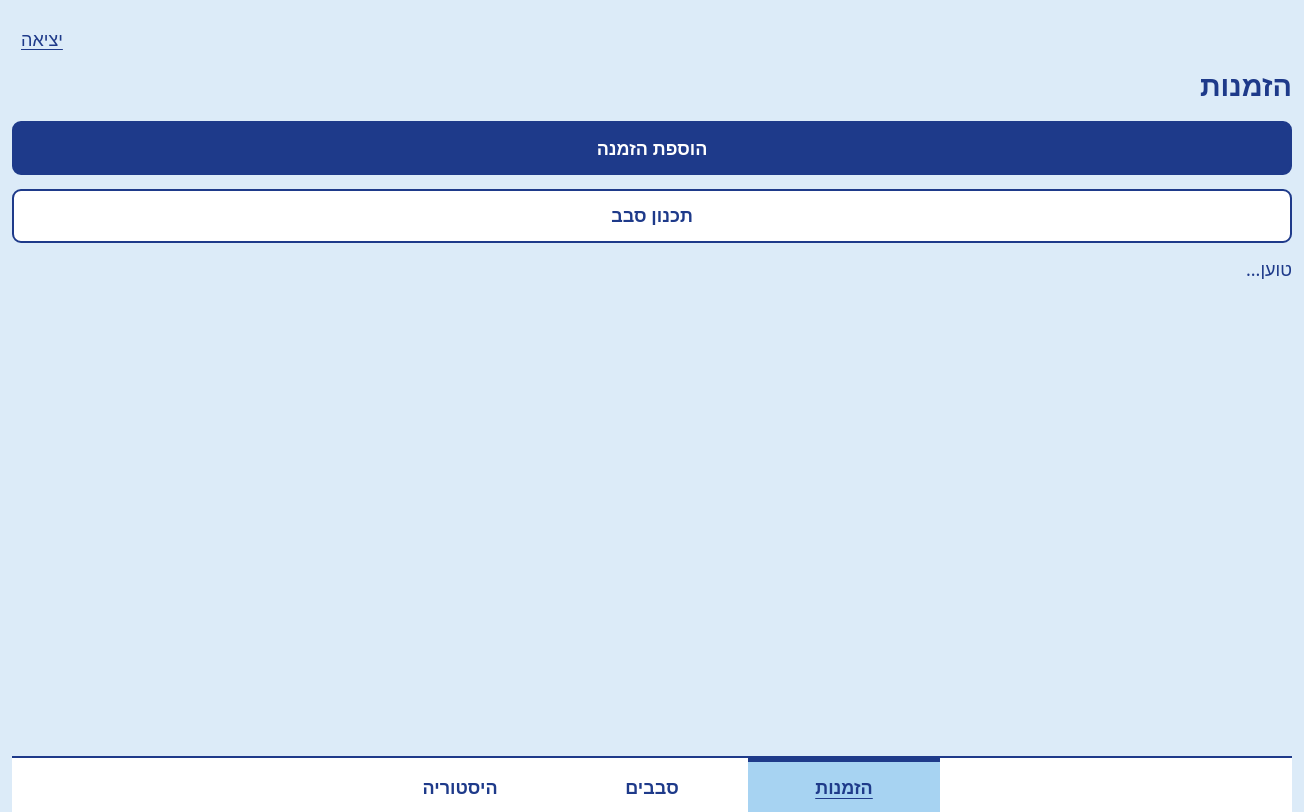
Test: CollectorApp › logged in › switches screens from the navigation without checking the session again
The image size is (1304, 812).
Check: the heading "הזמנות" is shown, box [1200,65,1292,104]
Click the link "היסטוריה" at {"x": 460, "y": 786}, box [422,774,498,798]
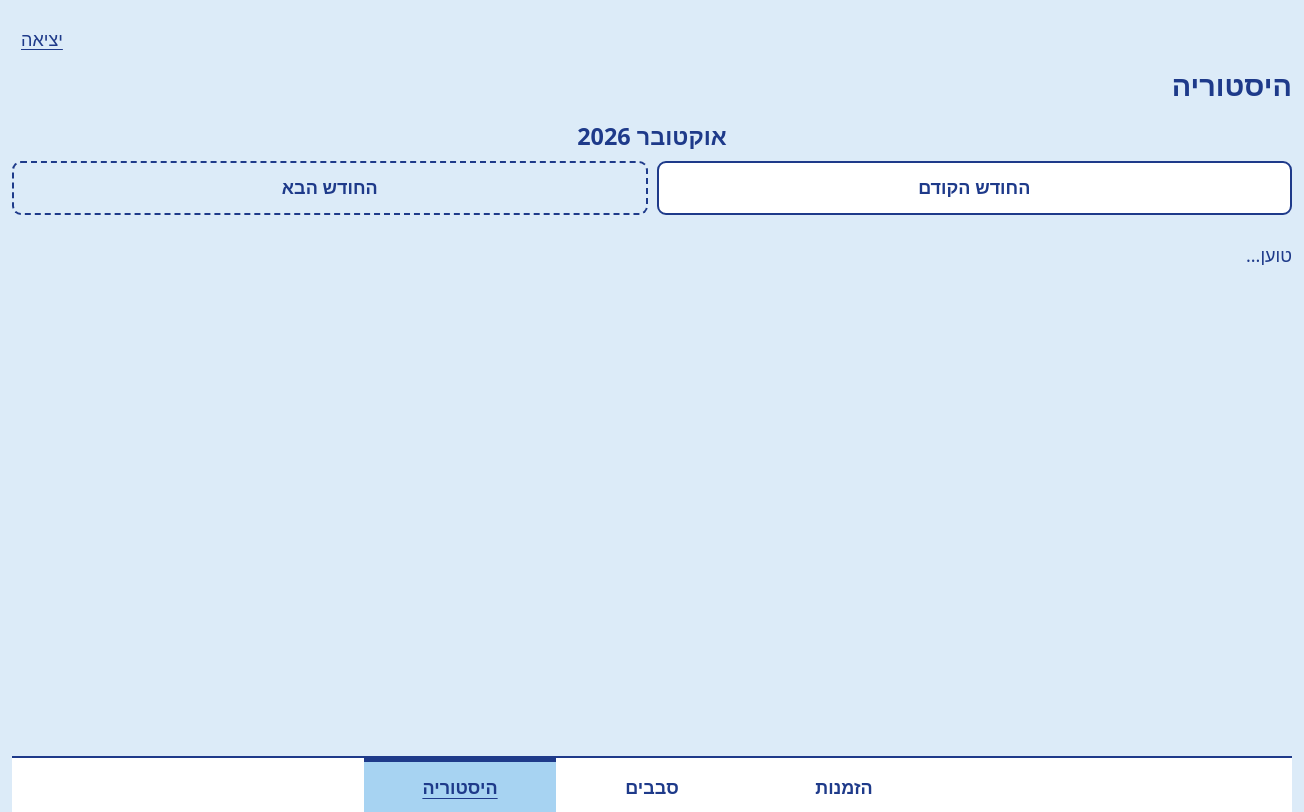
Check: the heading "היסטוריה" is shown, box [1172,65,1292,104]
Click the link "סבבים" at {"x": 652, "y": 786}, box [625,774,679,798]
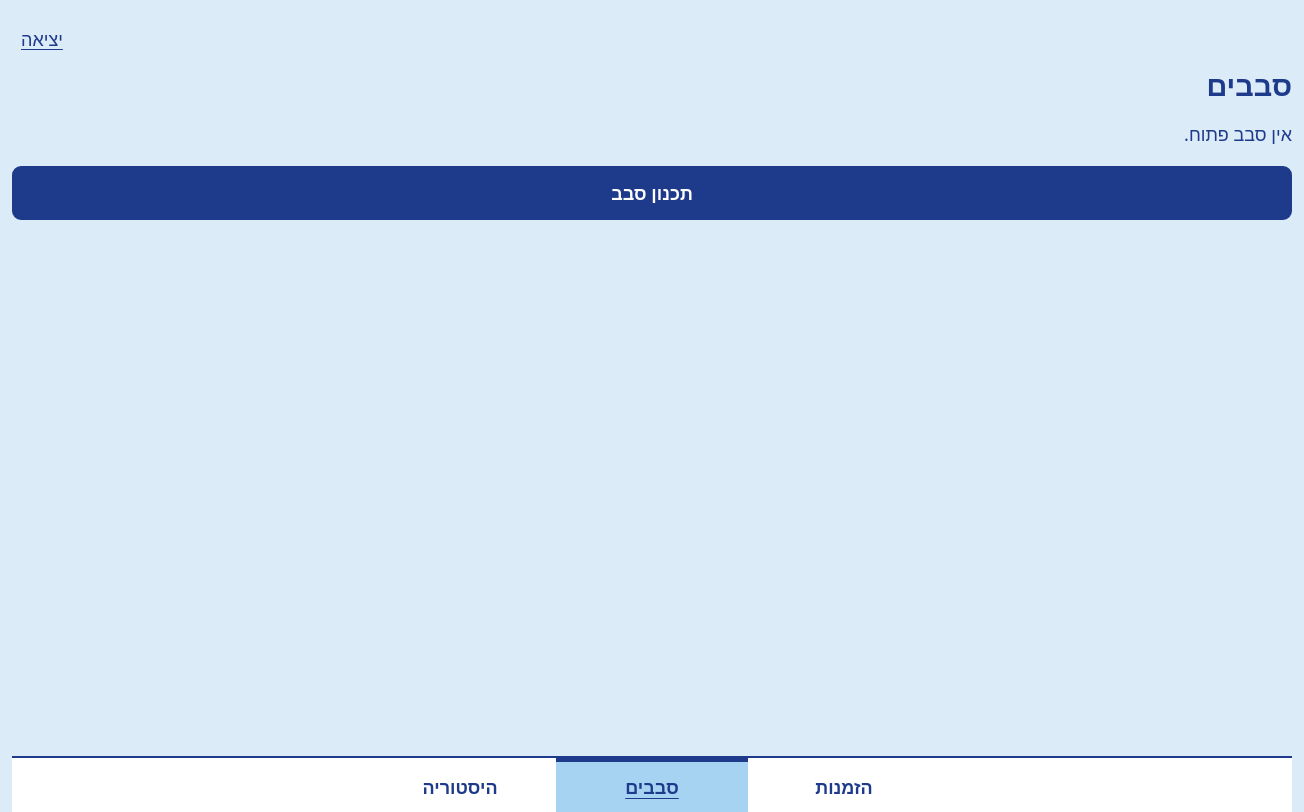
Check: the heading "סבבים" is shown, box [1206,65,1292,104]
Check: the text "אין סבב פתוח." is shown, box [1184,122,1292,146]
Check: the message "טוען..." is gone
